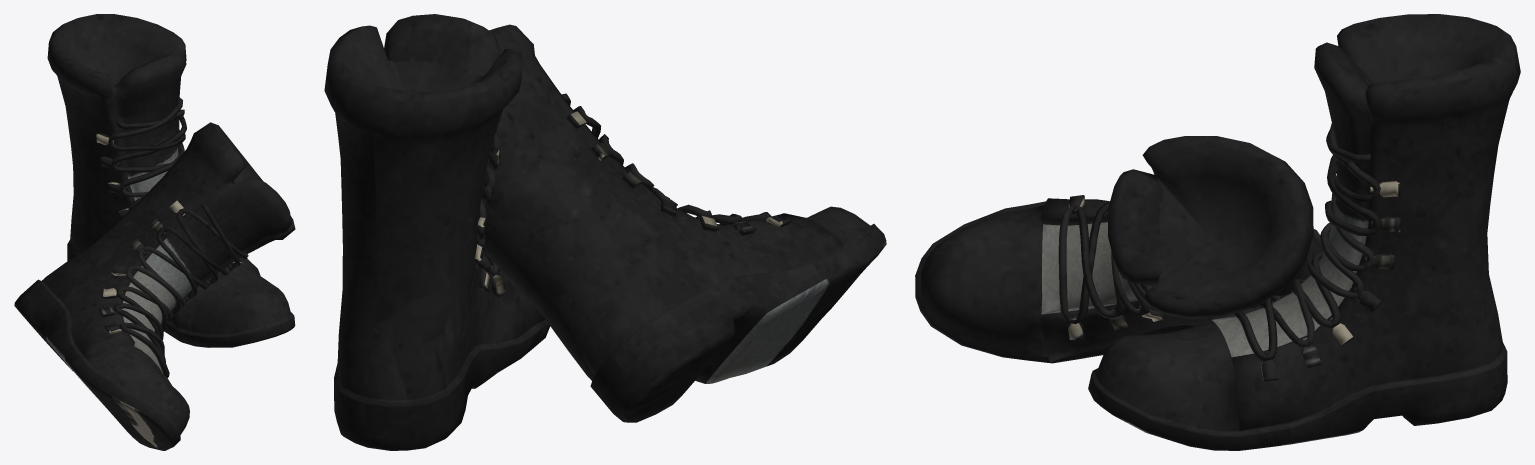
The model's file is only_boots.fbx.
3 views of the same model, side by side, from view 1: azimuth 30°, elevation 25°; view 2: azimuth 150°, elevation 25°; view 3: azimuth 270°, elevation 25° (orthographic). The views are drawn at different scales.
Parts seen in each view (by area): view 1: only_boots; view 2: only_boots; view 3: only_boots.
Boxes of the visible parts, x1,y1,x2,y2 form: only_boots: (14, 14, 295, 450); only_boots: (324, 14, 886, 450); only_boots: (915, 14, 1520, 450).
Bounding box in the file's own units: 0.2179 × 0.2207 × 0.3063.
